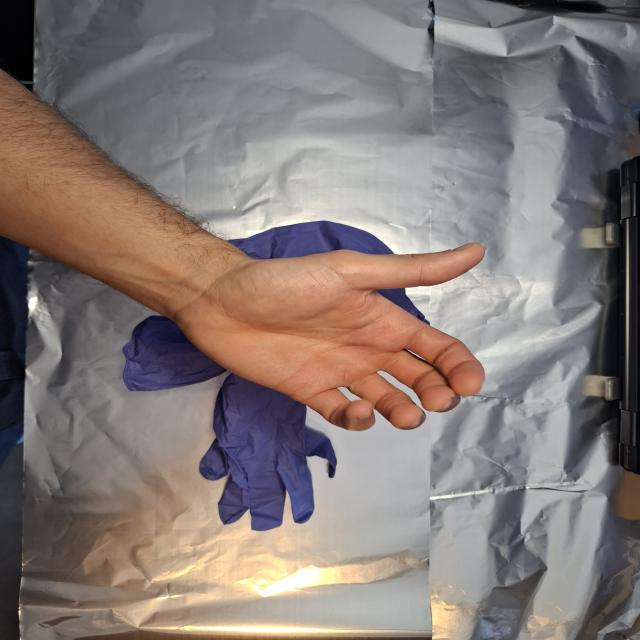glove_off: (171, 240, 489, 432)
